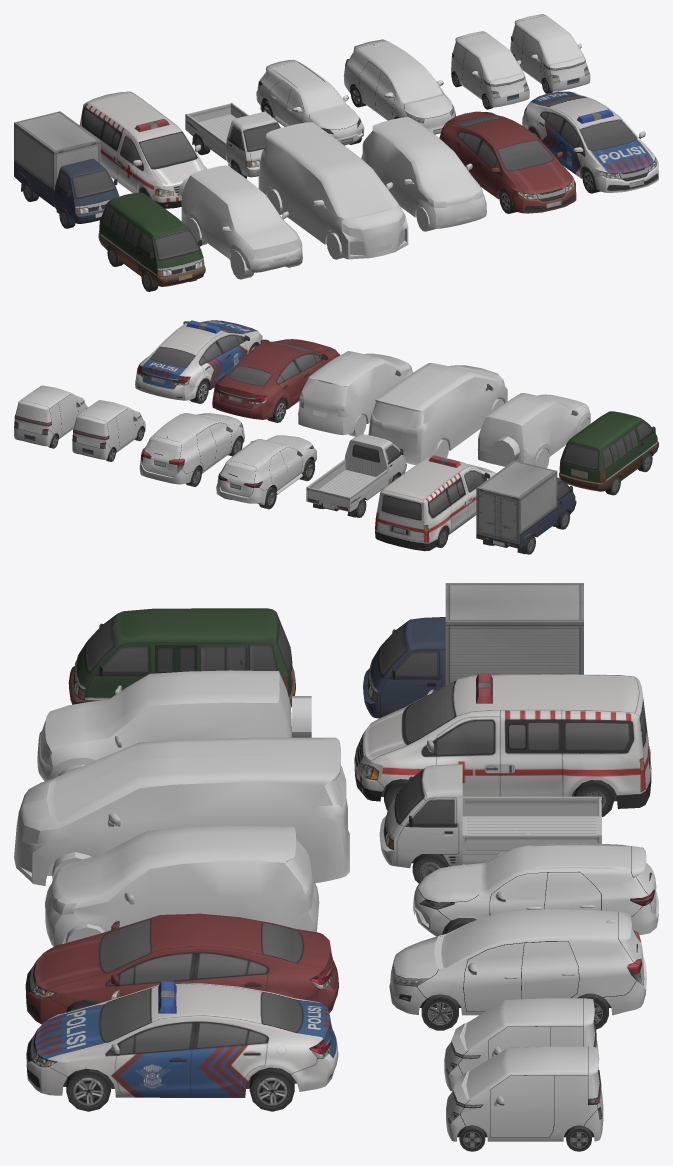
3 renders of one model, top to bottom at view 1: azimuth 30°, elevation 25°; view 2: azimuth 150°, elevation 25°; view 3: azimuth 270°, elevation 25°, orthographic. The views are drawn at different scales.
Parts seen in each view (by area): view 1: Toyota Alphard, Isuzu Trooper, Dihatsu Xenia, Honda Civic Polisi, Honda Civic Civillian, Ambulance, Box, Suzuki Carry Ankot, Toyota Innova, Toyota Fortuner, Wuling EV Bue, Wuling EV (+1 smaller); view 2: Toyota Alphard, Ambulance, Box, Honda Civic Polisi, Honda Civic Civillian, Dihatsu Xenia, Isuzu Trooper, Suzuki Carry Ankot, Toyota Innova, Toyota Fortuner, Pickup, Wuling EV (+1 smaller); view 3: Toyota Alphard, Ambulance, Honda Civic Polisi, Dihatsu Xenia, Toyota Innova, Honda Civic Civillian, Box, Isuzu Trooper, Toyota Fortuner, Pickup, Suzuki Carry Ankot, Wuling EV Bue (+1 smaller).
Boxes of the visible parts, x1=… form: Toyota Alphard: x1=258, y1=122, x2=408, y2=259; Isuzu Trooper: x1=178, y1=165, x2=302, y2=279; Dihatsu Xenia: x1=361, y1=117, x2=486, y2=231; Honda Civic Polisi: x1=522, y1=91, x2=658, y2=193; Honda Civic Civillian: x1=439, y1=111, x2=576, y2=213; Ambulance: x1=79, y1=91, x2=206, y2=208; Box: x1=14, y1=111, x2=119, y2=228; Suzuki Carry Ankot: x1=98, y1=192, x2=205, y2=291; Toyota Innova: x1=343, y1=39, x2=455, y2=134; Toyota Fortuner: x1=256, y1=59, x2=364, y2=145; Wuling EV Bue: x1=510, y1=14, x2=590, y2=93; Wuling EV: x1=451, y1=31, x2=529, y2=109; Toyota Alphard: x1=368, y1=363, x2=507, y2=464; Ambulance: x1=375, y1=455, x2=496, y2=551; Box: x1=476, y1=460, x2=576, y2=554; Honda Civic Polisi: x1=135, y1=320, x2=262, y2=403; Honda Civic Civillian: x1=212, y1=339, x2=339, y2=422; Dihatsu Xenia: x1=298, y1=351, x2=413, y2=436; Isuzu Trooper: x1=477, y1=393, x2=590, y2=468; Suzuki Carry Ankot: x1=559, y1=411, x2=658, y2=495; Toyota Innova: x1=139, y1=413, x2=244, y2=486; Toyota Fortuner: x1=216, y1=435, x2=316, y2=509; Pickup: x1=306, y1=434, x2=406, y2=517; Wuling EV: x1=72, y1=400, x2=145, y2=461; Toyota Alphard: x1=14, y1=737, x2=349, y2=885; Ambulance: x1=354, y1=673, x2=651, y2=816; Honda Civic Polisi: x1=26, y1=981, x2=338, y2=1111; Dihatsu Xenia: x1=45, y1=826, x2=319, y2=946; Toyota Innova: x1=389, y1=909, x2=646, y2=1030; Honda Civic Civillian: x1=25, y1=913, x2=338, y2=1024; Box: x1=363, y1=583, x2=583, y2=718; Isuzu Trooper: x1=37, y1=670, x2=311, y2=781; Toyota Fortuner: x1=413, y1=843, x2=658, y2=936; Pickup: x1=379, y1=764, x2=601, y2=883; Suzuki Carry Ankot: x1=68, y1=608, x2=295, y2=707; Wuling EV Bue: x1=446, y1=1046, x2=603, y2=1151.
Size of the model in its own units: 332 by 40.21 by 197.
